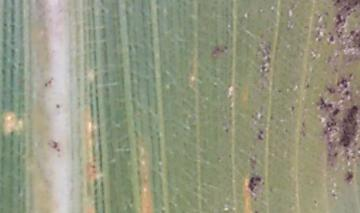tarspot: (341, 105, 360, 147), (246, 174, 261, 193), (318, 95, 333, 114), (345, 168, 354, 186), (334, 13, 342, 28), (325, 119, 338, 128), (325, 85, 336, 95), (339, 77, 349, 88), (332, 107, 341, 119), (50, 139, 58, 150), (53, 101, 61, 110), (257, 132, 265, 141), (344, 4, 352, 13), (259, 64, 267, 73), (332, 149, 339, 159), (290, 103, 296, 114), (328, 34, 335, 43), (343, 89, 350, 98), (304, 80, 311, 89), (347, 71, 354, 80), (348, 28, 355, 36), (258, 128, 265, 135), (353, 1, 360, 7), (342, 15, 346, 25), (334, 1, 341, 5), (253, 209, 258, 213)
